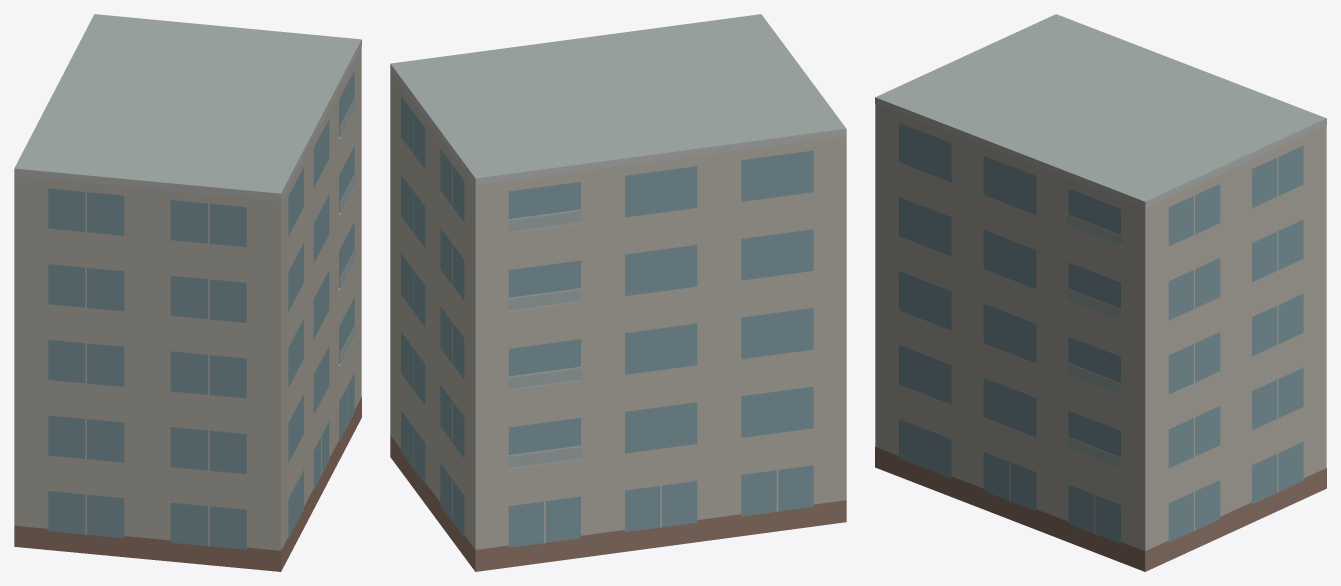
Rendered from survey-upis-32872379.glb.
3 views of the same model, side by side, from view 1: azimuth 30°, elevation 25°; view 2: azimuth 150°, elevation 25°; view 3: azimuth 270°, elevation 25° (orthographic). The views are drawn at different scales.
Visible parts, largest first — view 1: survey-upis-32872379.tmp; view 2: survey-upis-32872379.tmp; view 3: survey-upis-32872379.tmp.
Boxes of the visible parts, x1,y1,x2,y2 form: survey-upis-32872379.tmp: (14,14,361,571); survey-upis-32872379.tmp: (390,14,846,571); survey-upis-32872379.tmp: (875,14,1326,571).
Size of the model in its own units: 14.36 by 13.2 by 14.6.
